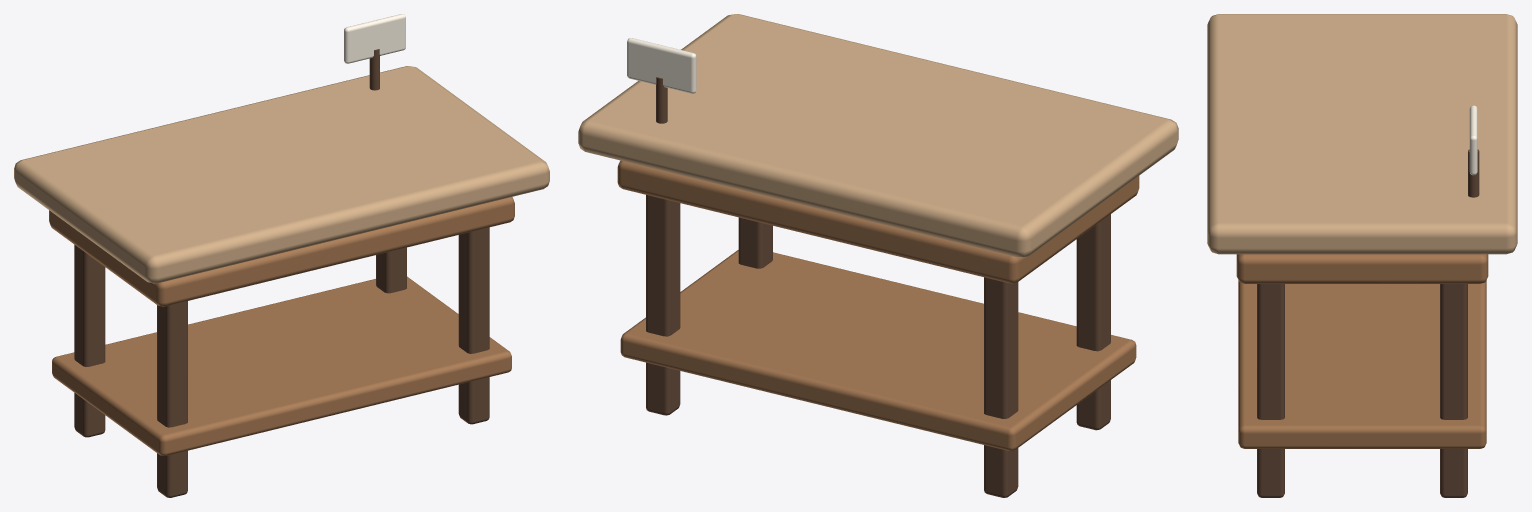
Rendered from display-w1_1b.glb.
3 views of the same model, side by side, from view 1: azimuth 30°, elevation 25°; view 2: azimuth 150°, elevation 25°; view 3: azimuth 270°, elevation 25° (orthographic). The views are drawn at different scales.
Visible parts, largest first — view 1: display-w1_1b.material0, display-w1_1b.material1, display-w1_1b.material2, display-w1_1b.material4; view 2: display-w1_1b.material0, display-w1_1b.material1, display-w1_1b.material2, display-w1_1b.material4; view 3: display-w1_1b.material0, display-w1_1b.material1, display-w1_1b.material2, display-w1_1b.material4, display-w1_1b.material3.
Boxes of the visible parts, left/top/right/bottom form: display-w1_1b.material0: left=14, top=66, right=549, bottom=283; display-w1_1b.material1: left=49, top=197, right=514, bottom=455; display-w1_1b.material2: left=74, top=227, right=489, bottom=497; display-w1_1b.material4: left=344, top=14, right=405, bottom=63; display-w1_1b.material0: left=578, top=14, right=1178, bottom=257; display-w1_1b.material1: left=617, top=160, right=1139, bottom=450; display-w1_1b.material2: left=646, top=195, right=1110, bottom=497; display-w1_1b.material4: left=627, top=38, right=696, bottom=93; display-w1_1b.material0: left=1207, top=14, right=1517, bottom=254; display-w1_1b.material1: left=1236, top=254, right=1488, bottom=448; display-w1_1b.material2: left=1257, top=284, right=1467, bottom=497; display-w1_1b.material4: left=1469, top=105, right=1477, bottom=175; display-w1_1b.material3: left=1468, top=149, right=1479, bottom=197.
Bounding box in the file's own units: 1.58 × 1.25 × 0.95.
